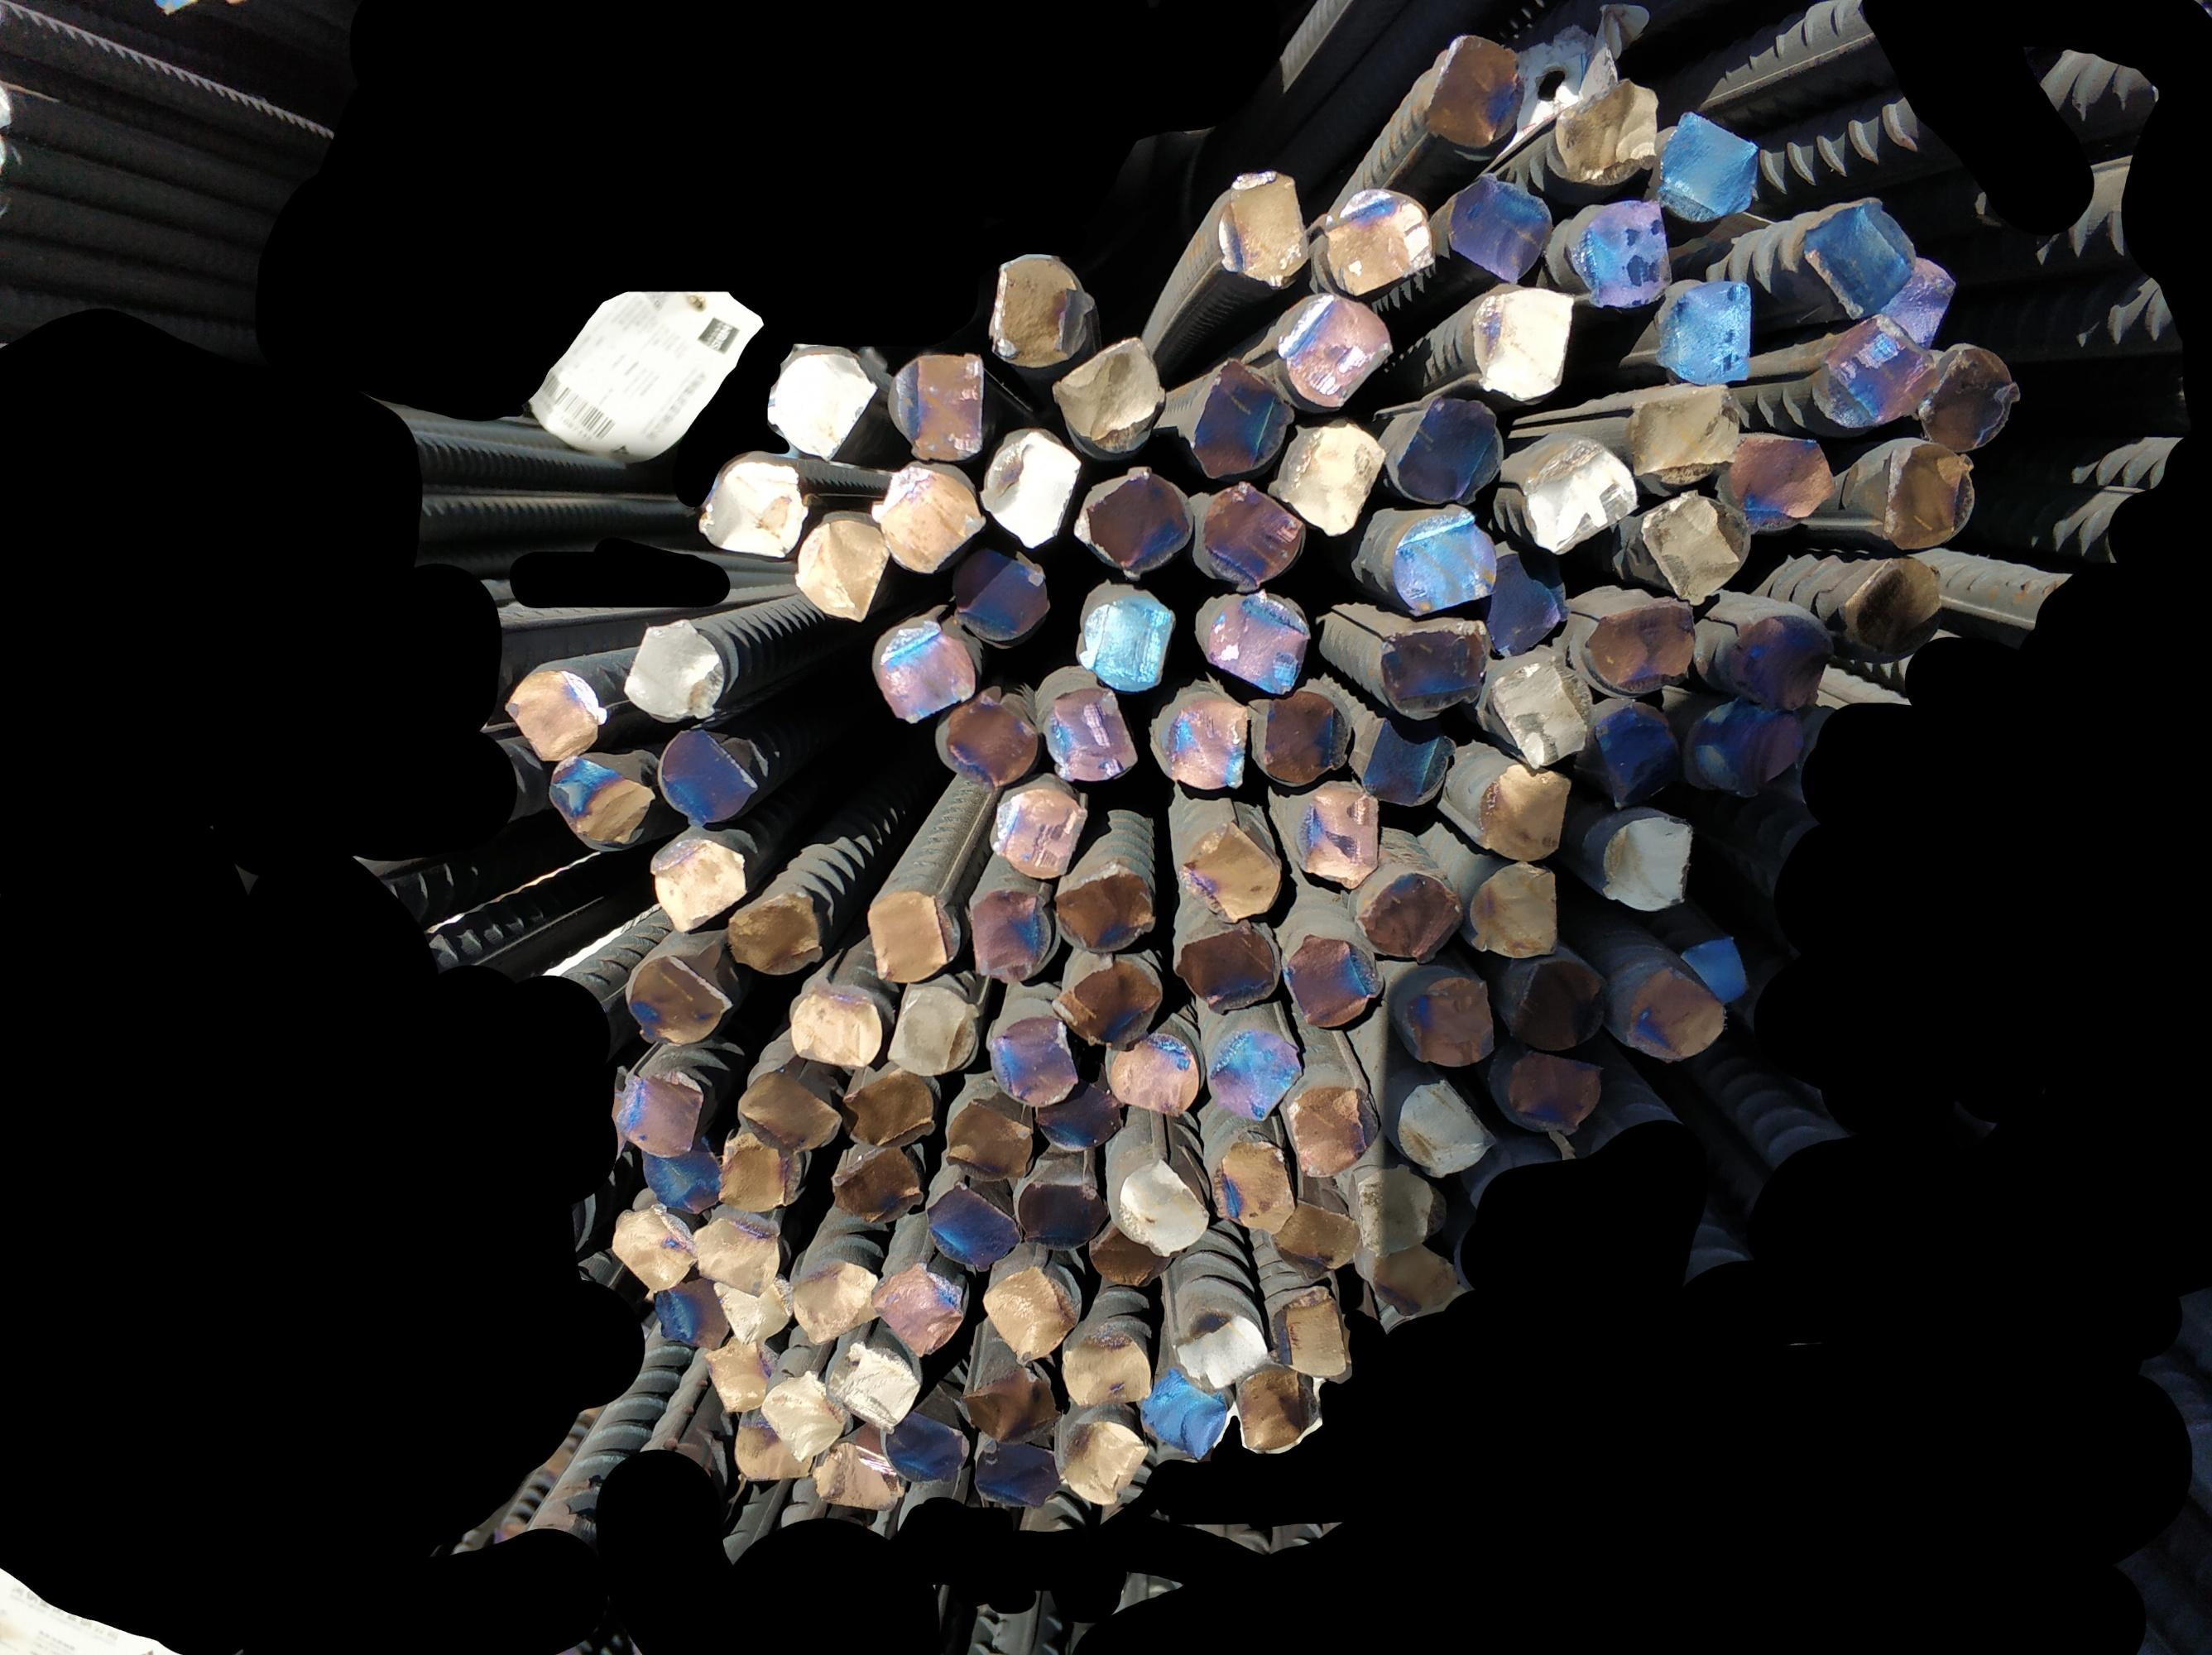bar: (1798, 193, 1922, 325), (1809, 309, 1941, 428), (1270, 412, 1390, 535), (1623, 374, 1741, 495), (1281, 289, 1397, 412), (1519, 435, 1637, 555), (1076, 462, 1194, 581), (1315, 184, 1435, 301), (766, 337, 879, 461), (1719, 593, 1831, 715), (1053, 330, 1164, 454), (1416, 31, 1531, 150), (1388, 501, 1501, 621), (1837, 549, 1948, 669), (1642, 483, 1753, 602), (1713, 428, 1835, 535), (1484, 652, 1592, 774), (1189, 356, 1293, 482), (871, 461, 983, 574), (1392, 395, 1505, 508), (697, 449, 811, 560), (977, 428, 1083, 548), (1875, 436, 1981, 556), (1654, 111, 1762, 228), (1447, 167, 1555, 283), (1550, 76, 1661, 188), (1585, 593, 1698, 702), (987, 250, 1093, 367), (1468, 283, 1574, 400), (1913, 334, 2019, 450), (626, 942, 738, 1050), (1197, 482, 1305, 595), (871, 612, 977, 725), (1569, 195, 1673, 309), (1204, 586, 1312, 694), (1586, 694, 1680, 817), (1654, 271, 1755, 386), (1050, 951, 1166, 1050), (1472, 541, 1569, 659), (653, 723, 761, 829), (620, 619, 726, 727), (937, 685, 1041, 794), (1376, 617, 1487, 720), (1107, 1151, 1213, 1257), (1076, 577, 1175, 690), (1218, 169, 1312, 287), (1178, 819, 1286, 921), (1616, 963, 1727, 1062), (646, 831, 749, 937), (504, 661, 608, 763), (546, 751, 655, 848), (791, 515, 888, 624), (888, 351, 983, 462), (1204, 1019, 1303, 1125), (1694, 694, 1804, 789), (1159, 681, 1249, 796), (1284, 930, 1385, 1031), (1599, 808, 1696, 913), (1510, 949, 1607, 1053), (1355, 867, 1463, 961), (1048, 861, 1157, 953), (1173, 923, 1282, 1015), (1395, 1078, 1494, 1179), (1465, 859, 1562, 960), (1044, 680, 1140, 782), (982, 1262, 1077, 1365), (954, 544, 1051, 643), (1401, 972, 1498, 1071), (613, 1059, 709, 1160), (820, 1340, 921, 1436), (1208, 1130, 1298, 1236), (886, 980, 983, 1078), (983, 1008, 1079, 1107), (1479, 761, 1573, 862), (735, 1064, 841, 1153), (871, 1262, 968, 1358), (985, 786, 1086, 878), (1168, 1304, 1272, 1392), (923, 1177, 1020, 1271), (1105, 1026, 1202, 1120), (1296, 779, 1378, 890), (1500, 1052, 1604, 1139), (1362, 715, 1456, 810), (1289, 1081, 1381, 1179), (1260, 690, 1352, 788), (944, 1088, 1034, 1187), (968, 878, 1050, 987), (692, 1206, 784, 1302), (867, 887, 959, 980), (1055, 1412, 1149, 1504), (610, 1200, 699, 1297), (787, 1257, 881, 1347), (726, 887, 822, 975), (1017, 1165, 1114, 1252), (1230, 1359, 1315, 1459), (787, 986, 888, 1069), (959, 1366, 1062, 1448), (758, 1370, 848, 1462), (1140, 1372, 1230, 1464), (1056, 1325, 1154, 1410), (825, 1142, 926, 1224), (1270, 1193, 1362, 1281), (1267, 1283, 1348, 1380), (716, 1127, 803, 1215), (843, 1066, 935, 1149), (1873, 250, 1953, 346), (1355, 1156, 1437, 1248), (808, 1438, 904, 1514), (878, 1410, 975, 1485), (648, 1271, 737, 1353), (1036, 1074, 1126, 1154), (723, 1406, 811, 1485), (971, 1429, 1062, 1505), (638, 1137, 723, 1217), (709, 1269, 798, 1346), (1371, 1241, 1458, 1318), (1086, 1219, 1169, 1292), (699, 1337, 775, 1413), (1679, 935, 1755, 1012)
